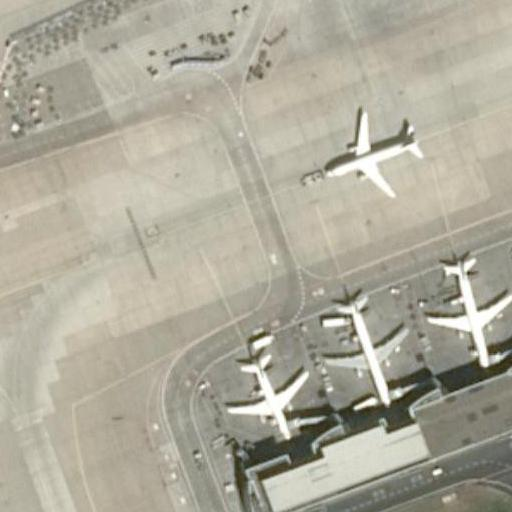Aircraft: (322, 287, 418, 406), (313, 107, 427, 199), (426, 273, 512, 381), (228, 336, 310, 446)
